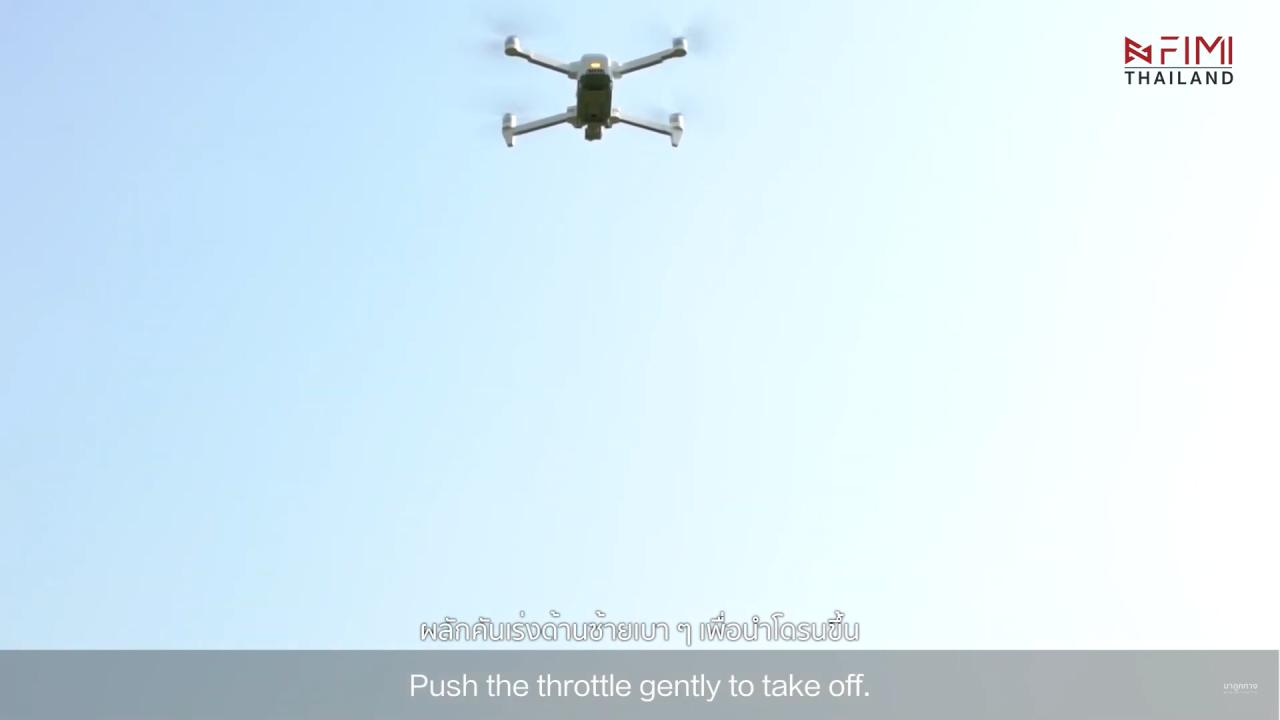Drone: (462, 8, 728, 165)
